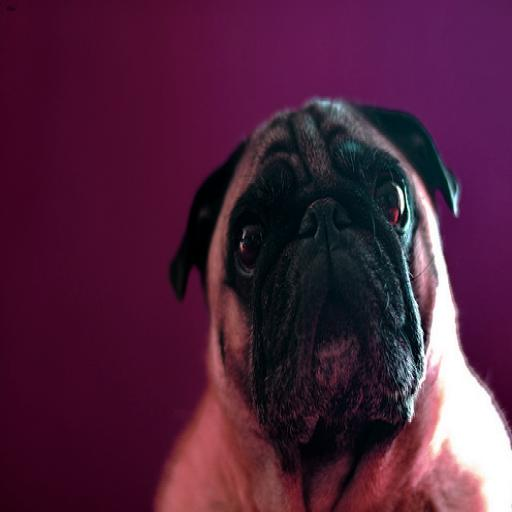dog_face: (169, 94, 470, 455)
